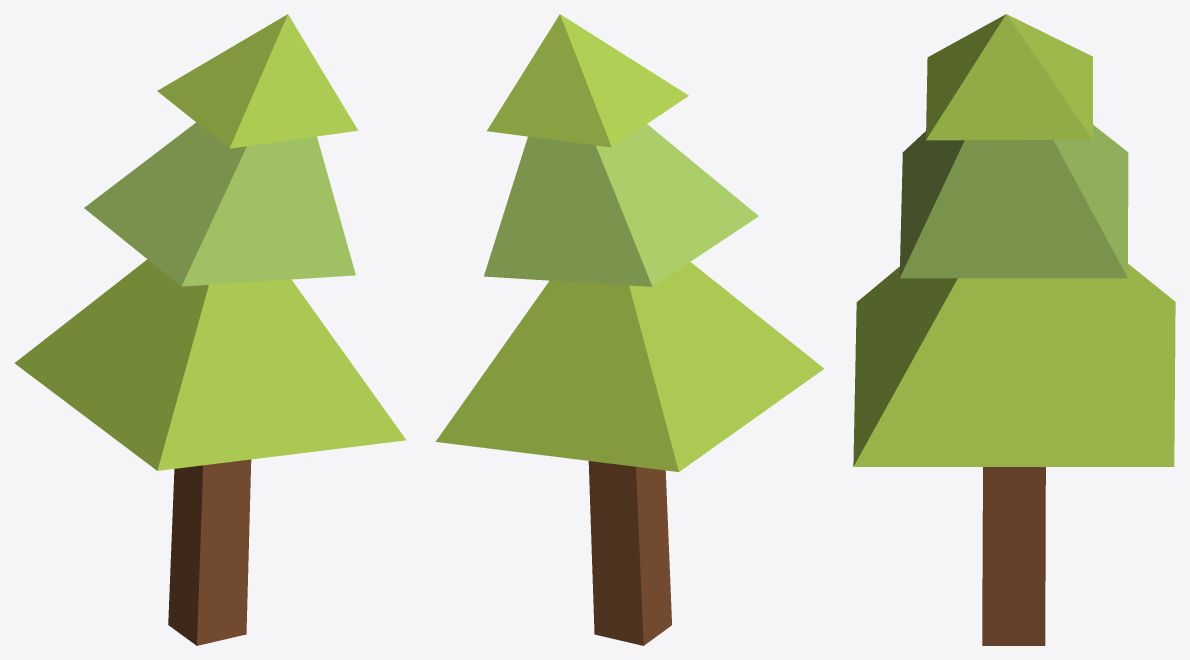
Rendered from pohon11.fbx.
3 renders of one model, left to right at view 1: azimuth 30°, elevation 25°; view 2: azimuth 150°, elevation 25°; view 3: azimuth 270°, elevation 25°, orthographic. The views are drawn at different scales.
Parts seen in each view (by area): view 1: Cube.052; view 2: Cube.052; view 3: Cube.052.
Part boxes in pixels (x1=…): Cube.052: x1=14, y1=14, x2=405, y2=645; Cube.052: x1=435, y1=14, x2=824, y2=645; Cube.052: x1=853, y1=14, x2=1175, y2=645.
Size of the model in its own units: 250 by 577 by 255.
